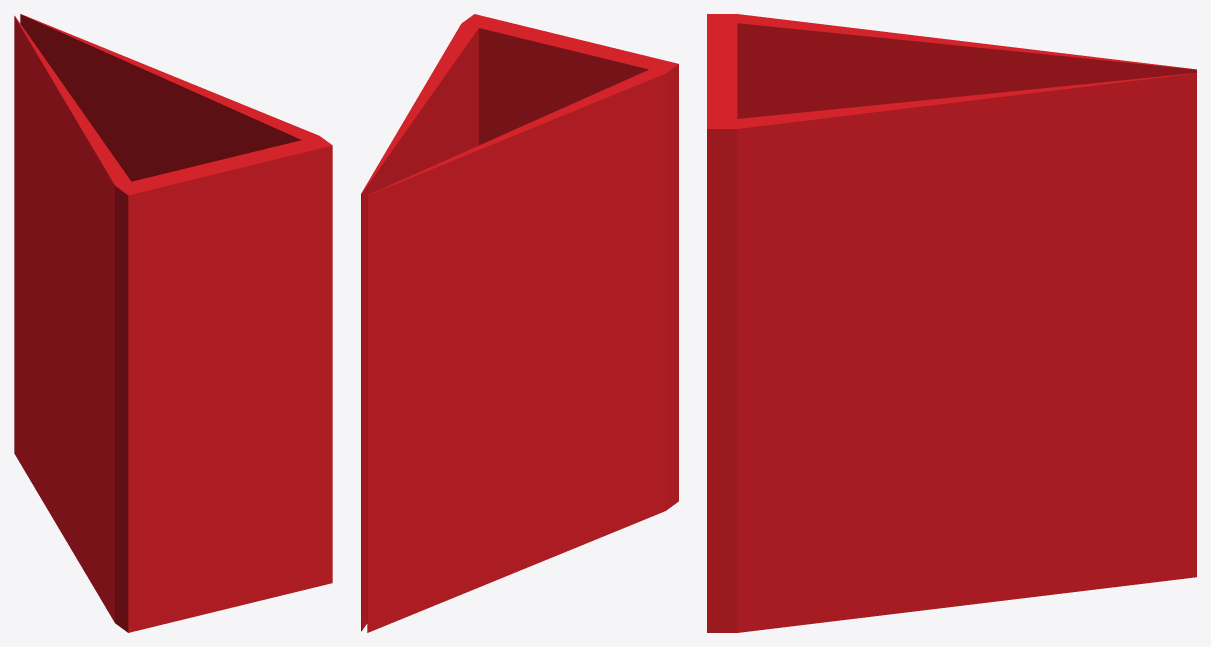
Rendered from RedFolder.fbx.
The picture shows the model from 3 angles, left to right: view 1: azimuth 30°, elevation 25°; view 2: azimuth 150°, elevation 25°; view 3: azimuth 270°, elevation 25°; orthographic projection. The views are drawn at different scales.
Parts seen in each view (by area): view 1: Cube.005; view 2: Cube.005; view 3: Cube.005.
Boxes of the visible parts, <box> form: Cube.005: <box>14,14,332,632</box>; Cube.005: <box>361,14,678,632</box>; Cube.005: <box>707,14,1196,632</box>.
Bounding box in the file's own units: 72.23 × 148 × 130.
